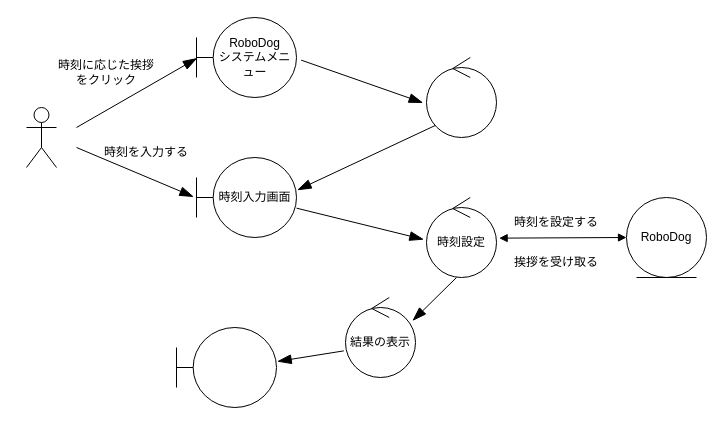
This 724x425 diagram has some shape labels left out. The centre of each missing label's shape, as x and y in pixels:
"ユーザー" goes at (41,137).
"時刻に応じた挨拶表示画面" goes at (226,367).
"表示" goes at (461,97).
